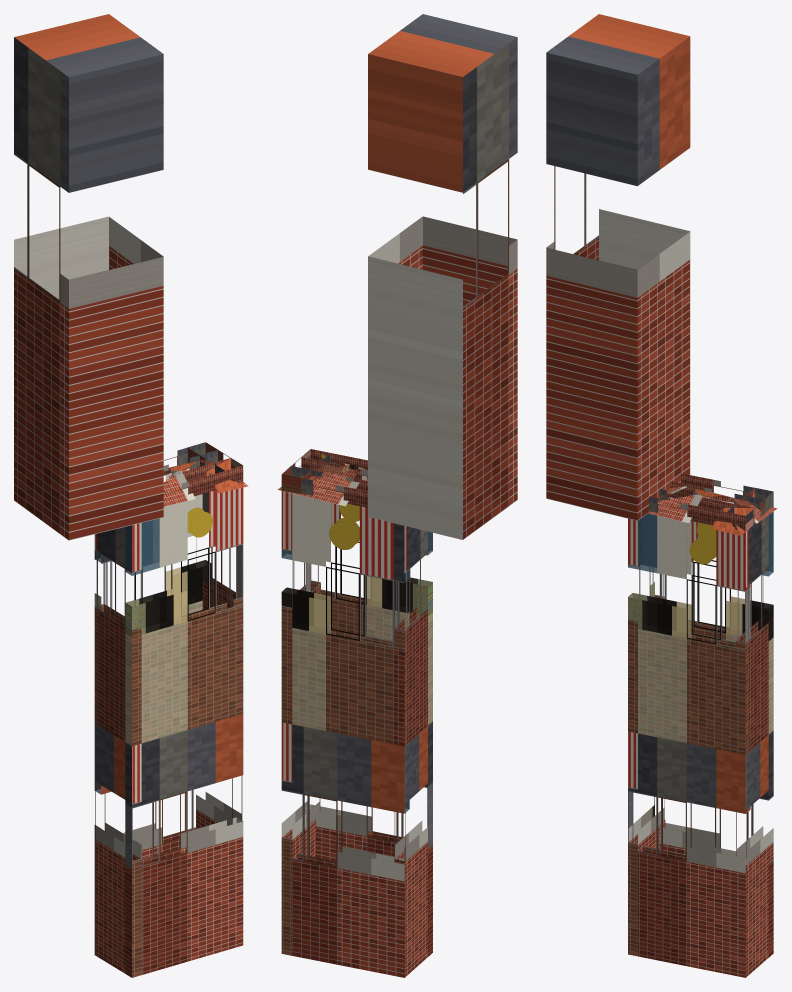
3 renders of one model, left to right at view 1: azimuth 30°, elevation 25°; view 2: azimuth 150°, elevation 25°; view 3: azimuth 330°, elevation 25°, orthographic. The views are drawn at different scales.
Parts seen in each view (by area): view 1: 238530450__chimney_0_xb, 238530450__wall_3_xb, 238530450__wall_2_xb, 238530450__wall_1_xb, 238530450__wall_3_xf, 238530450__wall_0_xb, 238530450__cornice_3, 238530450__wall_1_xf, 238530450_roof_front_xb, 238530450__cornice_1; view 2: 238530450__chimney_0_xb, 238530450__wall_1_xb, 238530450__wall_3_xb, 238530450__wall_2_xb, 238530450__wall_0_xb, 238530450__wall_1_xf, 238530450__wall_3_xf, 238530450_roof_back_xb, 238530450__cornice_1, 238530450__cornice_3, 238530450__cornice_0; view 3: 238530450__chimney_0_xb, 238530450__wall_3_xb, 238530450__wall_0_xb, 238530450__wall_1_xb, 238530450__wall_2_xb, 238530450__wall_3_xf, 238530450__cornice_3, 238530450__wall_1_xf, 238530450__cornice_1, 238530450_roof_front_xb.
Boxes of the visible parts, bbox=[...] form: 238530450__chimney_0_xb: bbox=[14, 14, 163, 540]; 238530450__wall_3_xb: bbox=[125, 482, 243, 977]; 238530450__wall_2_xb: bbox=[94, 523, 141, 977]; 238530450__wall_1_xb: bbox=[94, 468, 211, 859]; 238530450__wall_3_xf: bbox=[125, 519, 187, 636]; 238530450__wall_0_xb: bbox=[196, 492, 242, 828]; 238530450__cornice_3: bbox=[163, 458, 243, 496]; 238530450__wall_1_xf: bbox=[95, 551, 210, 793]; 238530450_roof_front_xb: bbox=[163, 467, 248, 506]; 238530450__cornice_1: bbox=[163, 442, 217, 475]; 238530450__chimney_0_xb: bbox=[368, 14, 517, 539]; 238530450__wall_1_xb: bbox=[281, 493, 409, 977]; 238530450__wall_3_xb: bbox=[305, 503, 432, 956]; 238530450__wall_2_xb: bbox=[394, 526, 432, 977]; 238530450__wall_0_xb: bbox=[281, 491, 320, 955]; 238530450__wall_1_xf: bbox=[282, 550, 409, 811]; 238530450__wall_3_xf: bbox=[367, 532, 432, 615]; 238530450_roof_back_xb: bbox=[277, 464, 359, 506]; 238530450__cornice_1: bbox=[287, 466, 367, 507]; 238530450__cornice_3: bbox=[301, 449, 367, 480]; 238530450__cornice_0: bbox=[281, 451, 330, 493]; 238530450__chimney_0_xb: bbox=[546, 14, 690, 520]; 238530450__wall_3_xb: bbox=[628, 513, 750, 977]; 238530450__wall_0_xb: bbox=[735, 512, 773, 977]; 238530450__wall_1_xb: bbox=[650, 497, 773, 957]; 238530450__wall_2_xb: bbox=[628, 517, 665, 956]; 238530450__wall_3_xf: bbox=[628, 513, 691, 637]; 238530450__cornice_3: bbox=[649, 489, 754, 531]; 238530450__wall_1_xf: bbox=[651, 512, 773, 818]; 238530450__cornice_1: bbox=[670, 473, 773, 513]; 238530450_roof_front_xb: bbox=[648, 494, 739, 535].
Bounding box in the file's own units: 0.3017 × 1.4 × 0.15.
Materials: 1 (1 with a texture image).
